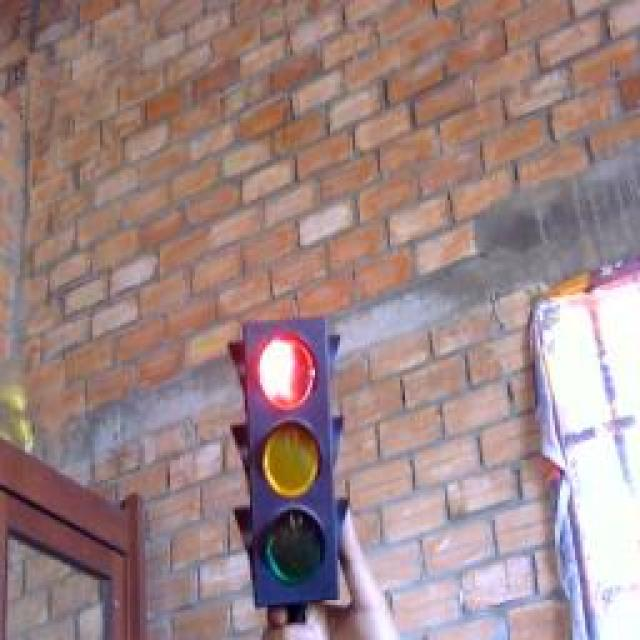-: (251, 328, 326, 416)
